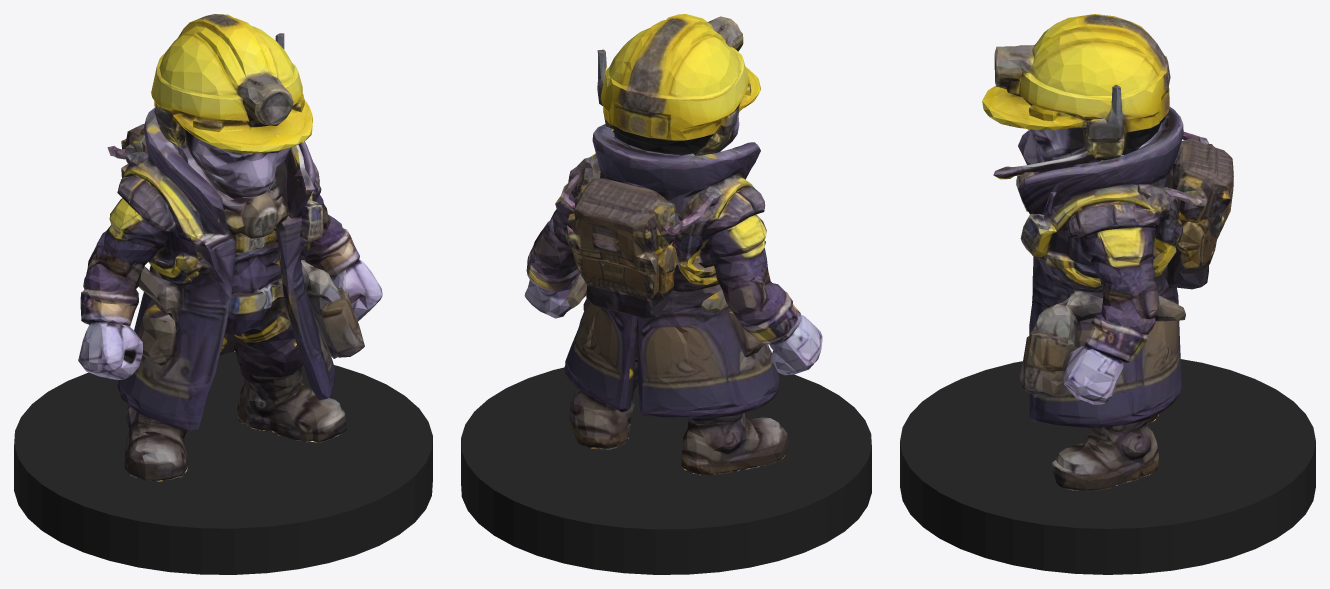
Rendered from wb-neophyte-leader.glb.
The picture shows the model from 3 angles, left to right: view 1: azimuth 30°, elevation 25°; view 2: azimuth 150°, elevation 25°; view 3: azimuth 270°, elevation 25°; orthographic projection.
Parts seen in each view (by area): view 1: figure, base; view 2: figure, base; view 3: figure, base.
Part boxes in pixels (box(x1,y1,x2,y2)): figure: box(78, 14, 382, 481); base: box(14, 352, 432, 574); figure: box(524, 14, 822, 475); base: box(461, 367, 871, 574); figure: box(982, 14, 1233, 491); base: box(900, 359, 1315, 574).
Size of the model in its own units: 0.9843 by 1.22 by 0.9843.
Materials: 2 (1 with a texture image).
